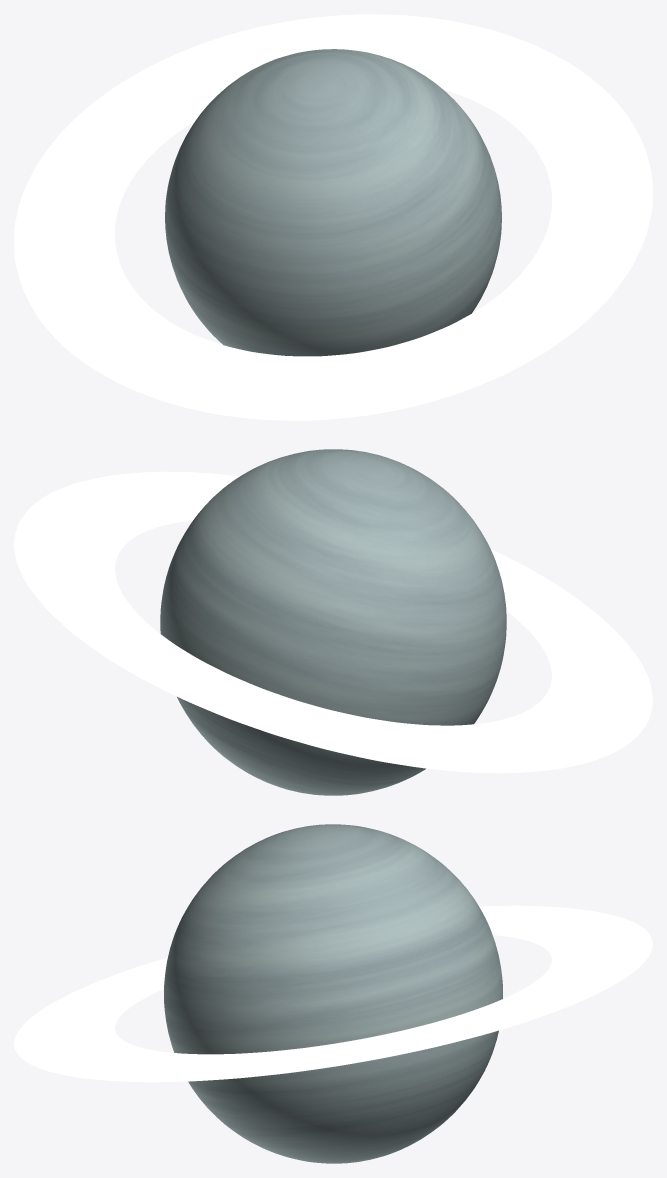
The model's file is urano.glb.
3 views of the same model, one above another, from view 1: azimuth 30°, elevation 25°; view 2: azimuth 150°, elevation 25°; view 3: azimuth 270°, elevation 25° (orthographic). The views are drawn at different scales.
Parts seen in each view (by area): view 1: Urano; view 2: Urano; view 3: Urano.
Part boxes in pixels (x1,y1,x2,y2): Urano: [14, 14, 652, 420]; Urano: [14, 449, 652, 795]; Urano: [14, 824, 652, 1163].
Size of the model in its own units: 0.3163 by 0.1697 by 0.3192.
Materials: 2 (2 with a texture image).
